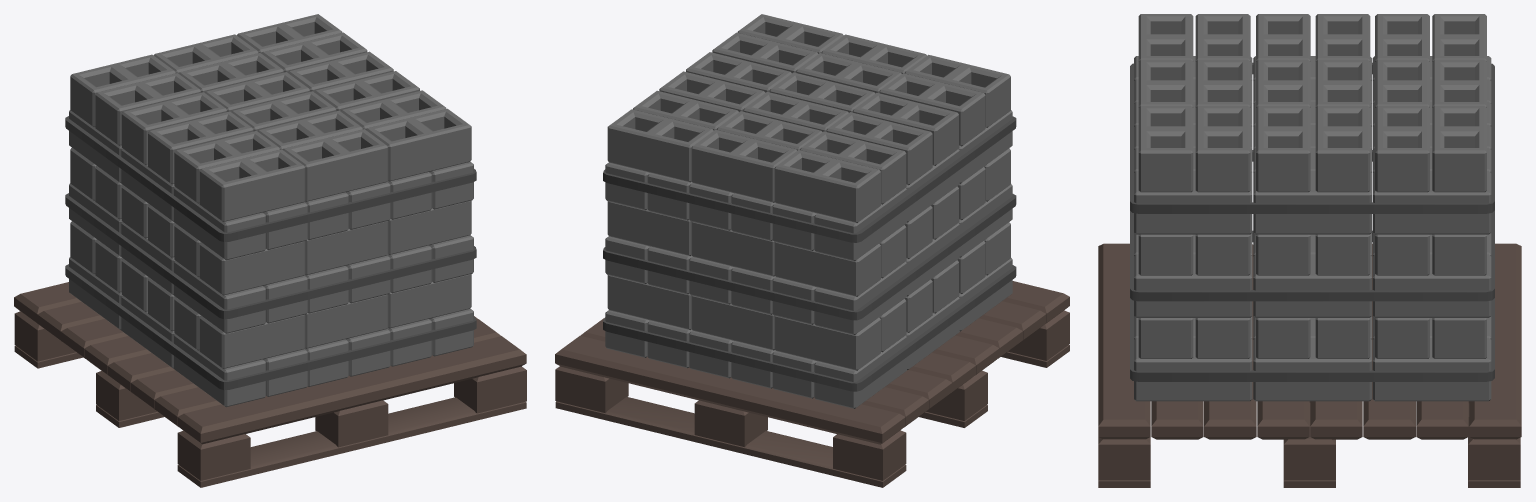
File: props_20.glb
The picture shows the model from 3 angles, left to right: view 1: azimuth 30°, elevation 25°; view 2: azimuth 150°, elevation 25°; view 3: azimuth 270°, elevation 25°; orthographic projection. The views are drawn at different scales.
Parts seen in each view (by area): view 1: props_20; view 2: props_20; view 3: props_20.
Boxes of the visible parts, x1,y1,x2,y2 form: props_20: (14, 14, 526, 487); props_20: (555, 14, 1069, 487); props_20: (1098, 14, 1521, 487).
Size of the model in its own units: 2 by 1.65 by 1.99.
Materials: 1 (1 with a texture image).
